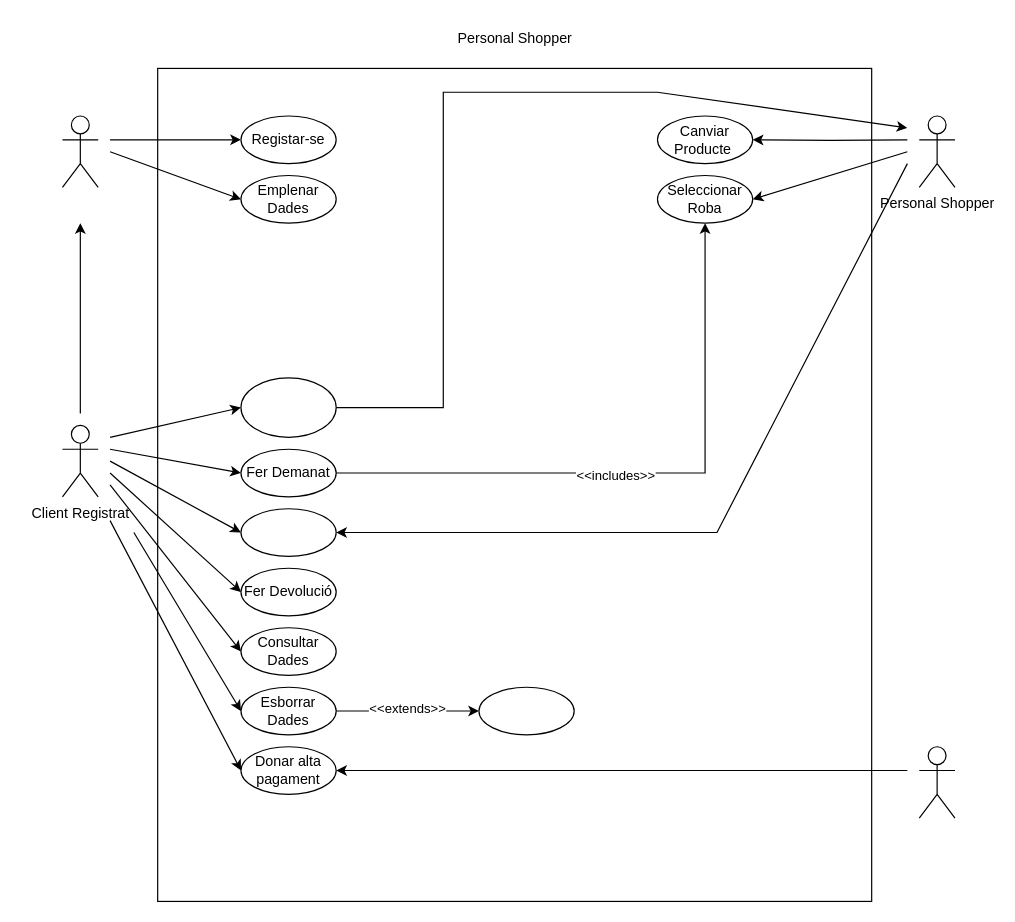
Image size: 1015x922. Some labels were removed from this diagram. The shapes that lost their labels are listed below. From the top down, each one's centre as x and y in pixels, then its label:
the point at 79,151: Client No Registrat
the point at 288,407: Canviar Personal Shopper
the point at 288,532: Xat
the point at 526,710: Donar-se de baixa
the point at 936,782: Sistema de pagament
